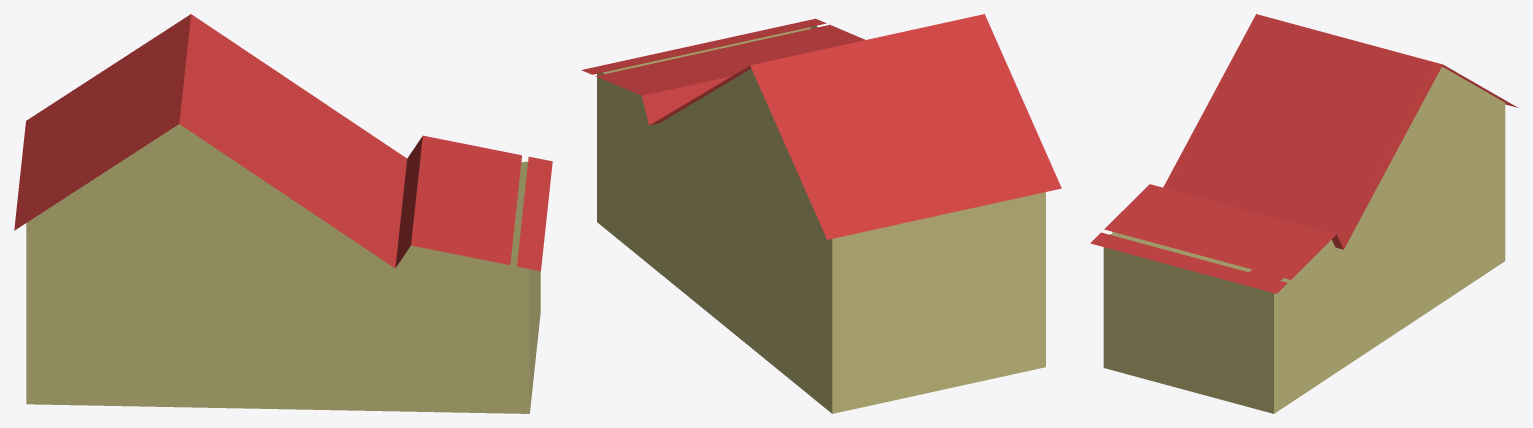
The picture shows the model from 3 angles, left to right: view 1: azimuth 30°, elevation 25°; view 2: azimuth 150°, elevation 25°; view 3: azimuth 270°, elevation 25°; orthographic projection. The views are drawn at different scales.
Bounding box in the file's own units: 25.03 × 21.56 × 13.62.
